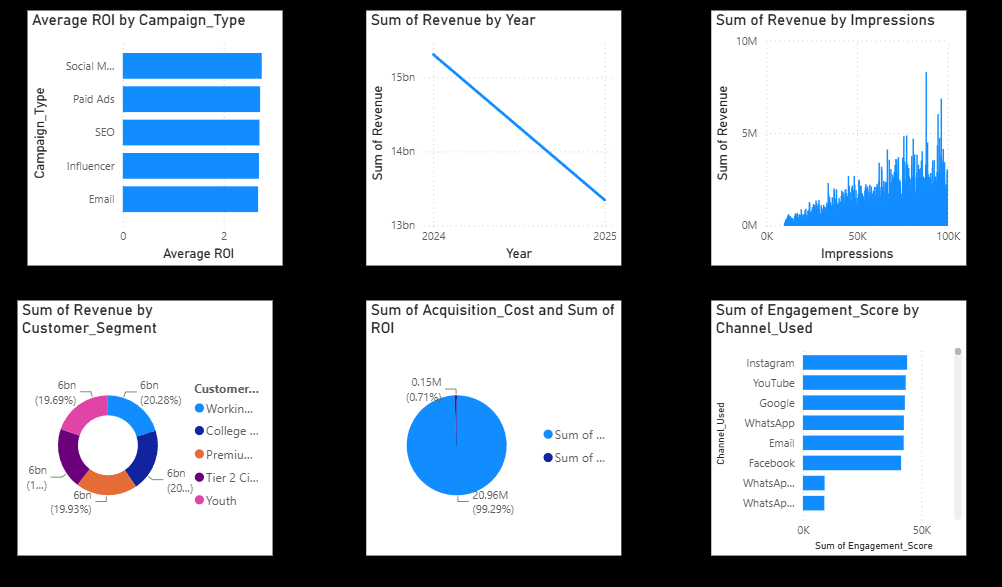

Layout of this report page (visuals, bound fields, positions):
{"tool":"powerbi","page":{"name":"Campaign Analytics","canvas":[1280,720],"ordinal":1},"visuals":[{"type":"clusteredBarChart","fields":{"Category":["nykaa_campaign_data.Campaign_Type"],"Y":["nykaa_campaign_data.Average ROI"]},"box":[57.6,41.2,279.9,279.9],"z":0},{"type":"lineChart","fields":{"Category":["nykaa_campaign_data.Date.Variation.Date Hierarchy.Year","nykaa_campaign_data.Date.Variation.Date Hierarchy.Quarter","nykaa_campaign_data.Date.Variation.Date Hierarchy.Month","nykaa_campaign_data.Date.Variation.Date Hierarchy.Day"],"Y":["Sum(nykaa_campaign_data.Revenue)"]},"box":[429.5,41.2,279.9,279.9],"z":1000},{"type":"donutChart","fields":{"Category":["nykaa_campaign_data.Customer_Segment"],"Y":["Sum(nykaa_campaign_data.Revenue)"]},"box":[46.7,359.5,279.9,279.9],"z":2000},{"type":"pieChart","fields":{"Y":["Sum(nykaa_campaign_data.Acquisition_Cost)","Sum(nykaa_campaign_data.ROI)"]},"box":[429.5,359.5,279.9,279.9],"z":3000},{"type":"columnChart","fields":{"Category":["nykaa_campaign_data.Impressions"],"Y":["Sum(nykaa_campaign_data.Revenue)"]},"box":[808.2,41.2,279.9,279.9],"z":4000},{"type":"clusteredBarChart","fields":{"Category":["nykaa_campaign_data.Channel_Used"],"Y":["Sum(nykaa_campaign_data.Engagement_Score)"]},"box":[808.2,359.5,279.9,279.9],"z":5000}]}

Visuals, with their boxes on the page's 1280x720 design canvas (x1, y1, x2, y2). These are canvas units, not pixel positions in the 1002x587 screenshot, which may show the page scaled, cropped or inside an application window:
clusteredBarChart - nykaa_campaign_data.Campaign_Type x nykaa_campaign_data.Average ROI: {"x1": 58, "y1": 41, "x2": 338, "y2": 321}
lineChart - nykaa_campaign_data.Date.Variation.Date Hierarchy.Year x nykaa_campaign_data.Date.Variation.Date Hierarchy.Quarter: {"x1": 430, "y1": 41, "x2": 709, "y2": 321}
donutChart - nykaa_campaign_data.Customer_Segment x Sum(nykaa_campaign_data.Revenue): {"x1": 47, "y1": 360, "x2": 327, "y2": 639}
pieChart - Sum(nykaa_campaign_data.Acquisition_Cost) x Sum(nykaa_campaign_data.ROI): {"x1": 430, "y1": 360, "x2": 709, "y2": 639}
columnChart - nykaa_campaign_data.Impressions x Sum(nykaa_campaign_data.Revenue): {"x1": 808, "y1": 41, "x2": 1088, "y2": 321}
clusteredBarChart - nykaa_campaign_data.Channel_Used x Sum(nykaa_campaign_data.Engagement_Score): {"x1": 808, "y1": 360, "x2": 1088, "y2": 639}
